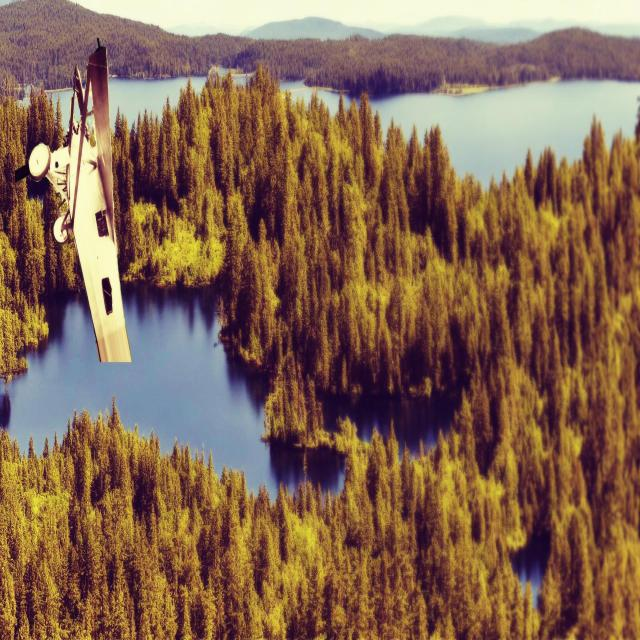airplane: (14, 36, 132, 364)
